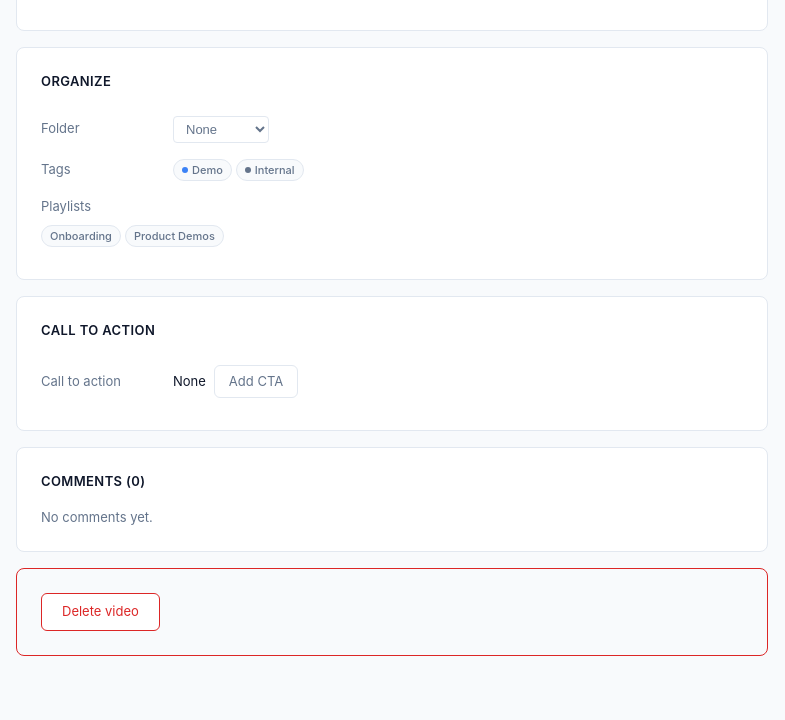
it: VideoDetail › shows CTA form when Add CTA button clicked
(page scrolled)
Click the button "Add CTA": (256, 381) [214, 364, 298, 398]
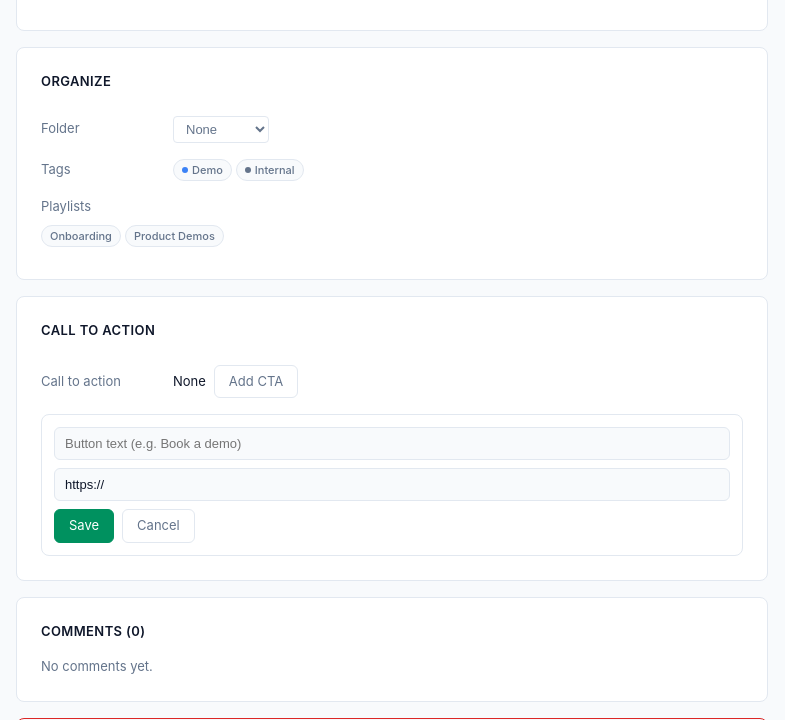
Expected: the field named "CTA text" is shown, [54, 427, 730, 460]
Expected: the field named "CTA URL" is shown, [54, 468, 730, 501]
Expected: the button "Save" is shown, [54, 509, 114, 542]
